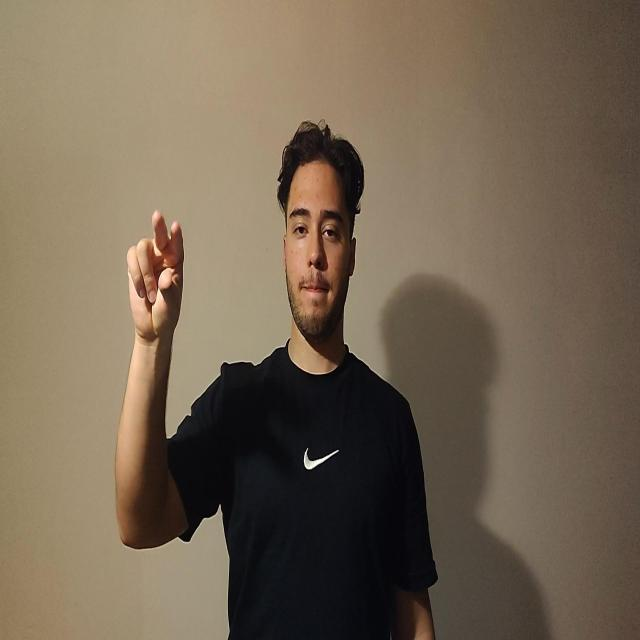no: (126, 208, 184, 342)
